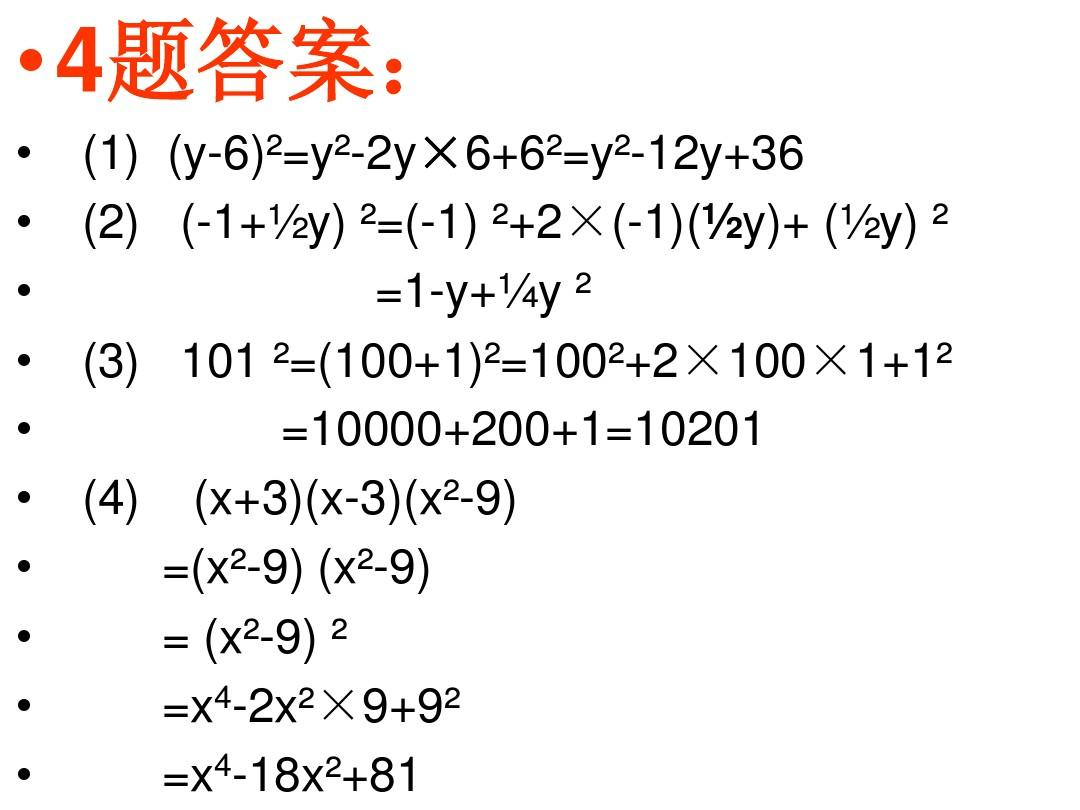square: (607, 128, 633, 160), (934, 338, 960, 367), (443, 685, 468, 715), (350, 544, 376, 572), (930, 199, 951, 231), (261, 130, 284, 158), (331, 614, 354, 642), (271, 339, 293, 368), (607, 336, 626, 367), (297, 679, 315, 711), (483, 203, 508, 226), (482, 342, 504, 368), (322, 750, 341, 779), (241, 614, 260, 642), (227, 546, 247, 572), (360, 198, 378, 226), (331, 131, 349, 158), (443, 473, 458, 505), (573, 271, 592, 294), (546, 132, 562, 158)
